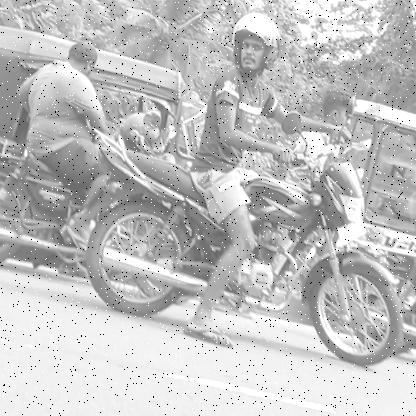motorcycle: (72, 112, 410, 370), (0, 122, 85, 276), (363, 206, 416, 410)
